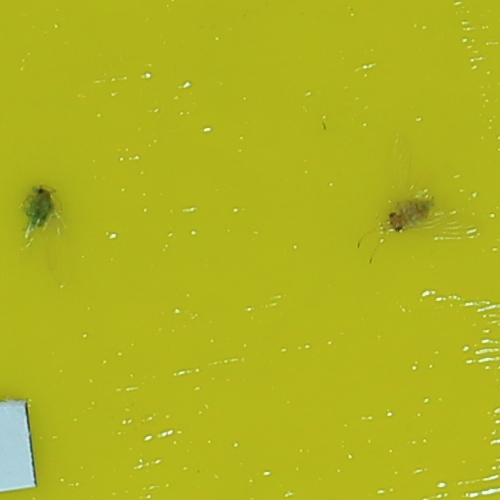Glycaspis: (385, 193, 437, 235), (25, 187, 57, 230)
